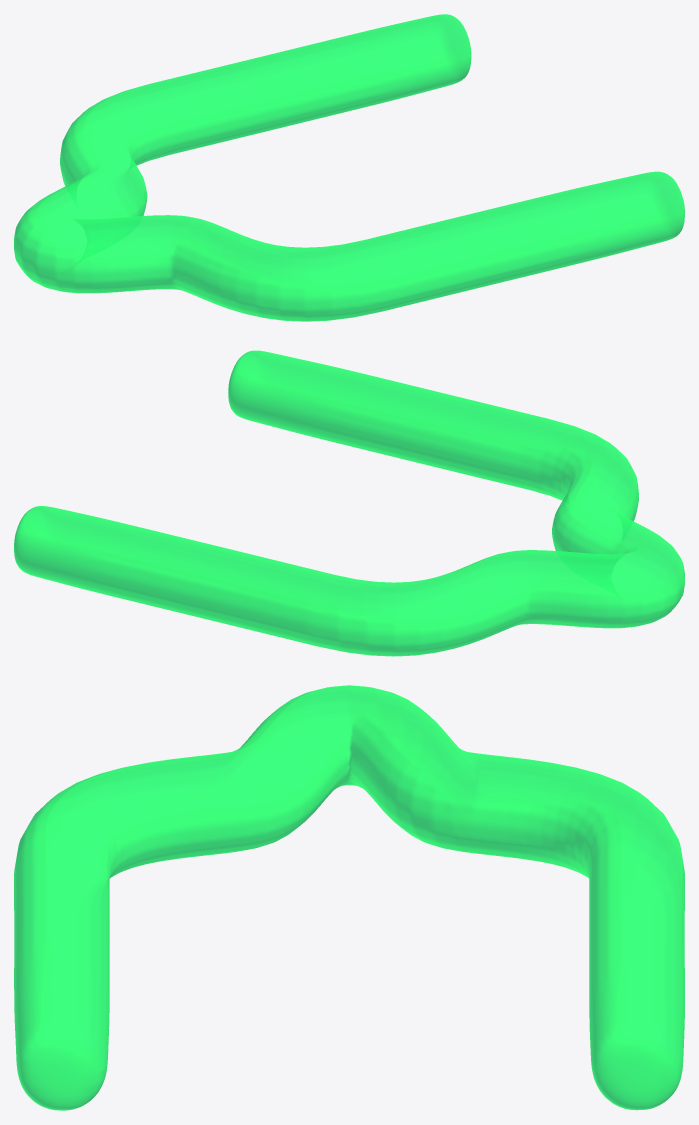
The model's file is fusion protein part 3.fbx.
3 views of the same model, one above another, from view 1: azimuth 30°, elevation 25°; view 2: azimuth 150°, elevation 25°; view 3: azimuth 270°, elevation 25° (orthographic). The views are drawn at different scales.
Visible parts, largest first — view 1: BezierCurve.001; view 2: BezierCurve.001; view 3: BezierCurve.001.
Boxes of the visible parts, box(x1,y1,x2,y2) form: BezierCurve.001: box(14, 14, 684, 321); BezierCurve.001: box(14, 350, 684, 656); BezierCurve.001: box(14, 685, 684, 1110).
Bounding box in the file's own units: 386 × 45.73 × 305.
